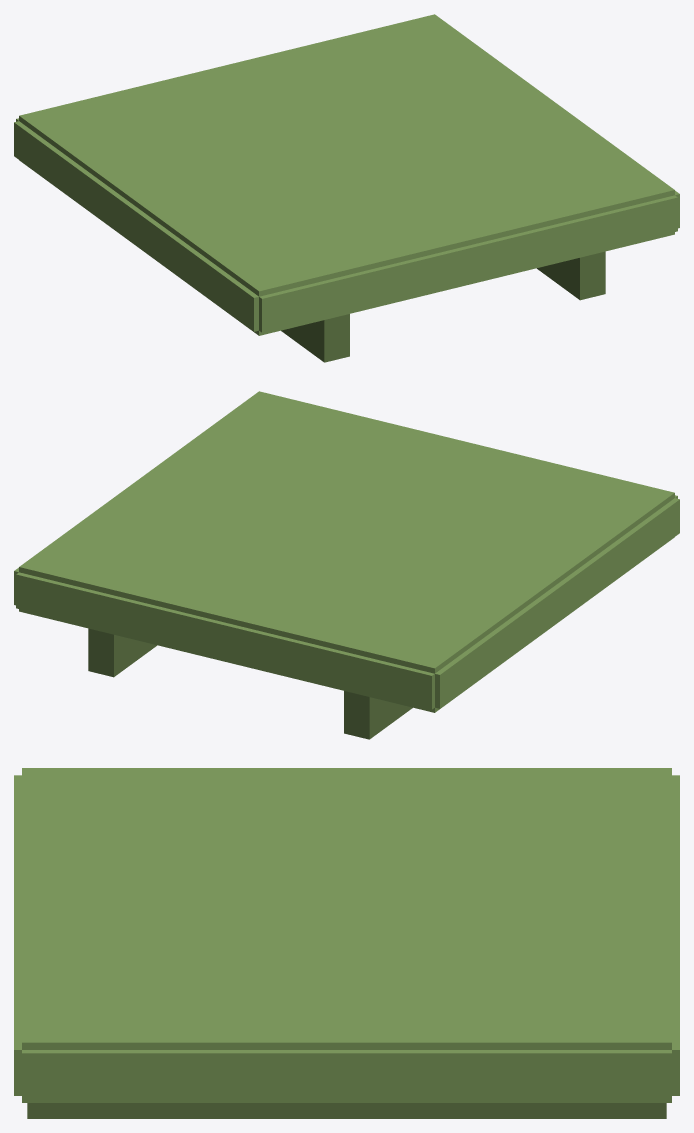
Rendered from cactus_platform_v0.glb.
3 renders of one model, top to bottom at view 1: azimuth 30°, elevation 25°; view 2: azimuth 150°, elevation 25°; view 3: azimuth 270°, elevation 25°, orthographic. The views are drawn at different scales.
Visible parts, largest first — view 1: cactus_platform_v0; view 2: cactus_platform_v0; view 3: cactus_platform_v0.
Part boxes in pixels (bbox=[...]): cactus_platform_v0: bbox=[14, 14, 679, 362]; cactus_platform_v0: bbox=[14, 391, 679, 739]; cactus_platform_v0: bbox=[14, 768, 679, 1118].
Bounding box in the file's own units: 1 × 0.2 × 1.
